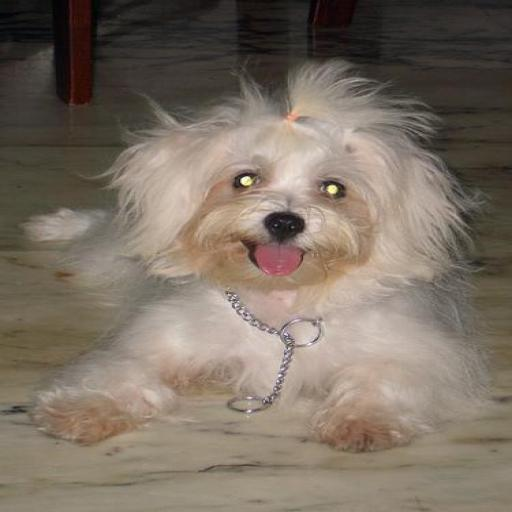dog_face: (108, 67, 459, 307)
